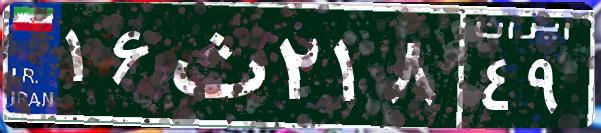1: (330, 28, 385, 110), (57, 26, 110, 107)
2: (273, 28, 330, 110)
4: (475, 38, 525, 113)
6: (110, 28, 158, 105)
8: (385, 28, 445, 110)
9: (525, 38, 570, 115)
ث: (158, 15, 273, 115)
